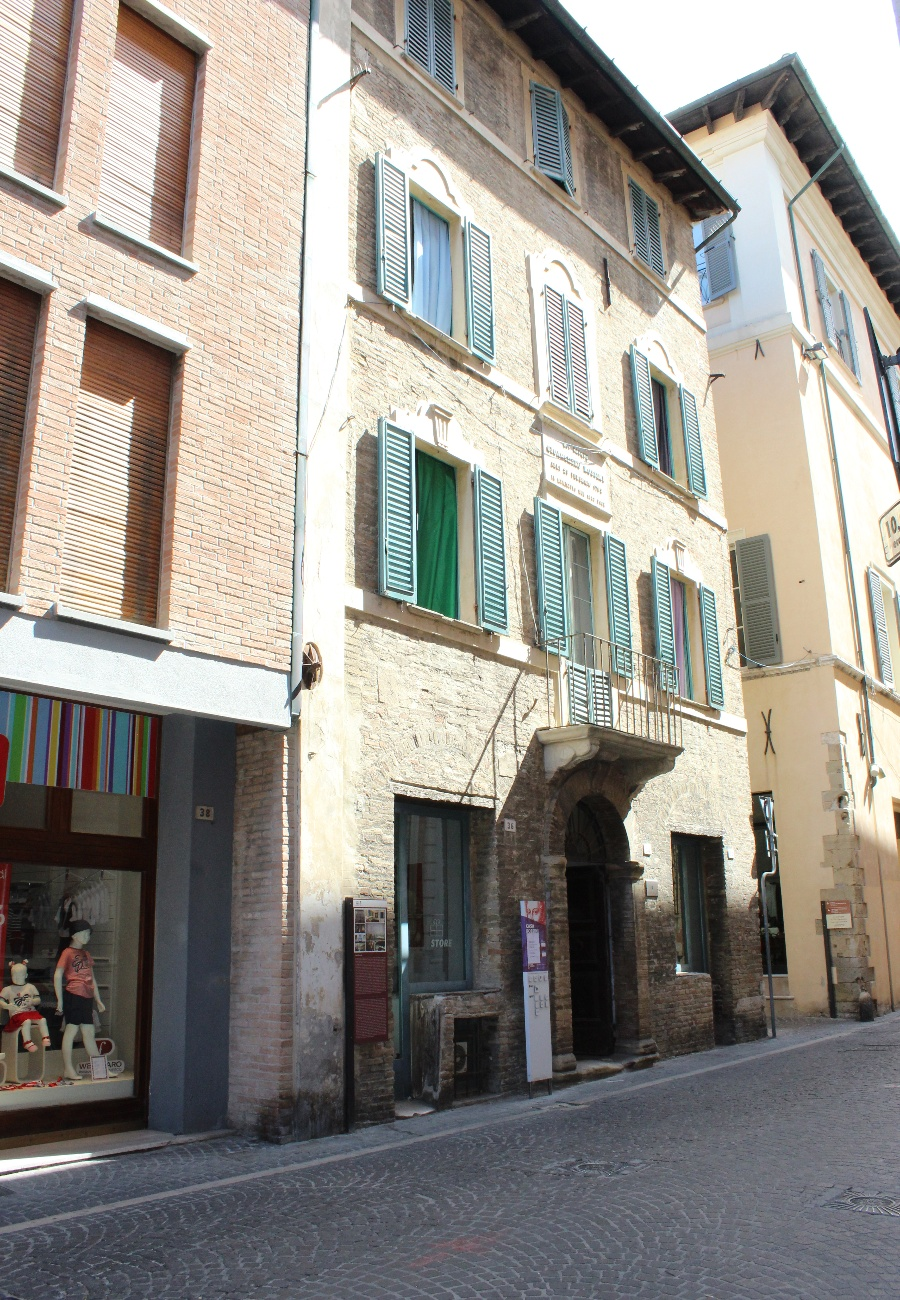Casa Rossini: (299, 1, 732, 1117)
